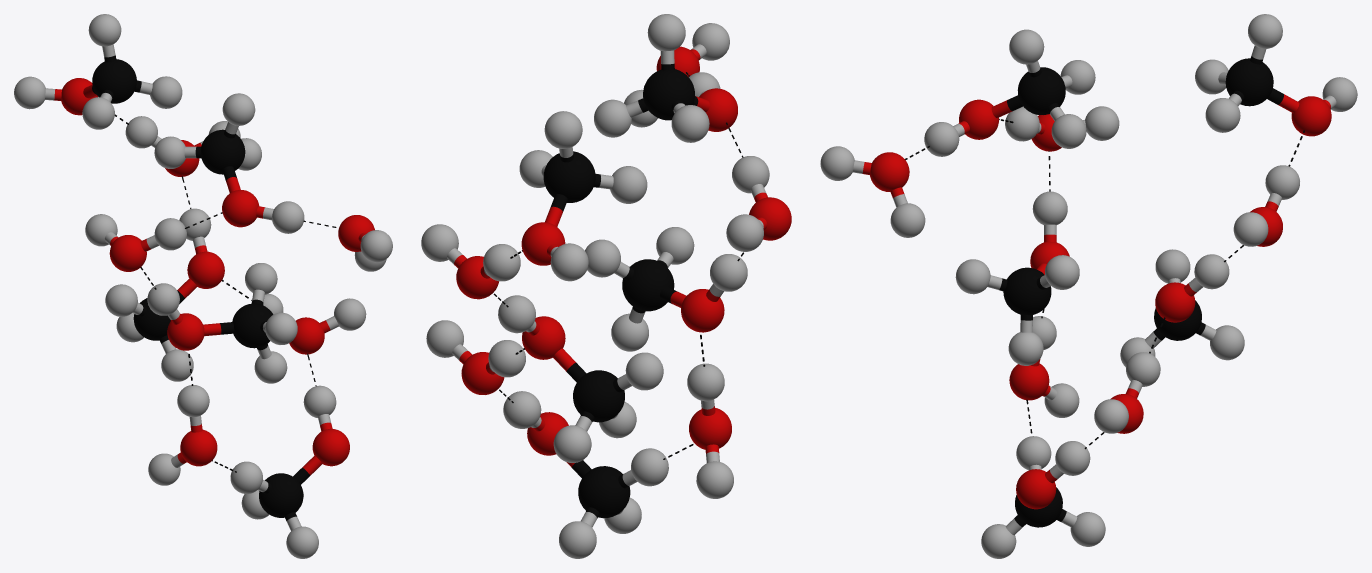
File: hfg_qj.obj
3 renders of one model, left to right at view 1: azimuth 30°, elevation 25°; view 2: azimuth 150°, elevation 25°; view 3: azimuth 270°, elevation 25°, orthographic. The views are drawn at different scales.
Visible parts, largest first — view 1: 006, 014, 001, 016, 008, 002, 010, 004, 018, 012; view 2: 006, 008, 016, 001, 014, 002, 012, 004, 010, 018; view 3: 014, 016, 006, 001, 008, 018, 002, 004, 012, 010.
Boxes of the visible parts, x1,y1,x2,y2 form: 006: (147,263,297,383); 014: (154,93,304,233); 001: (230,385,349,558); 016: (14,14,182,129); 008: (105,208,224,381); 002: (148,385,217,485); 010: (85,214,186,271); 004: (263,293,366,354); 018: (338,215,392,271); 012: (125,116,240,176); 006: (585,227,747,351); 008: (498,295,663,462); 016: (519,111,647,281); 001: (503,391,668,558); 014: (594,14,737,142); 002: (687,363,733,498); 012: (421,224,520,299); 004: (426,320,525,394); 010: (726,156,791,251); 018: (624,23,729,127); 014: (924,29,1095,156); 016: (1195,14,1357,136); 006: (955,191,1079,365); 001: (981,436,1105,558); 008: (1120,249,1244,367); 018: (820,146,925,237); 002: (1009,316,1079,417); 004: (1094,352,1160,433); 012: (1233,165,1299,246); 010: (1005,106,1119,151).
Bounding box in the file's own units: 275 × 438 × 424.
